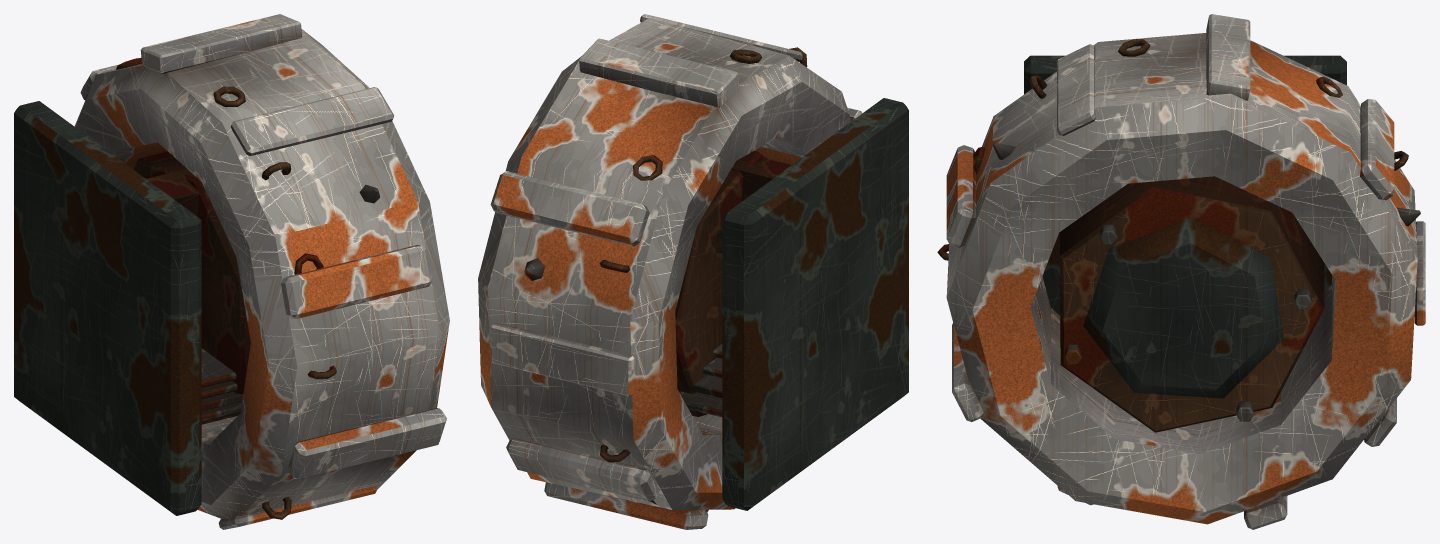
The model's file is R4M_WheelM_Side_Offroad.glb.
3 renders of one model, left to right at view 1: azimuth 30°, elevation 25°; view 2: azimuth 150°, elevation 25°; view 3: azimuth 270°, elevation 25°, orthographic.
Parts seen in each view (by area): view 1: R4M_WheelM_Side_Offroad_Rotor, R4M_WheelM_Side_Offroad_Mount; view 2: R4M_WheelM_Side_Offroad_Rotor, R4M_WheelM_Side_Offroad_Mount; view 3: R4M_WheelM_Side_Offroad_Rotor, R4M_WheelM_Side_Offroad_Mount.
Part boxes in pixels (x1,y1,x2,y2): R4M_WheelM_Side_Offroad_Rotor: [74, 14, 449, 529]; R4M_WheelM_Side_Offroad_Mount: [14, 101, 243, 515]; R4M_WheelM_Side_Offroad_Rotor: [478, 14, 862, 529]; R4M_WheelM_Side_Offroad_Mount: [678, 98, 908, 510]; R4M_WheelM_Side_Offroad_Rotor: [937, 14, 1425, 529]; R4M_WheelM_Side_Offroad_Mount: [1024, 55, 1346, 315].
Bounding box in the file's own units: 0.448 × 0.7696 × 0.756.
Materials: 4 (4 with a texture image).
